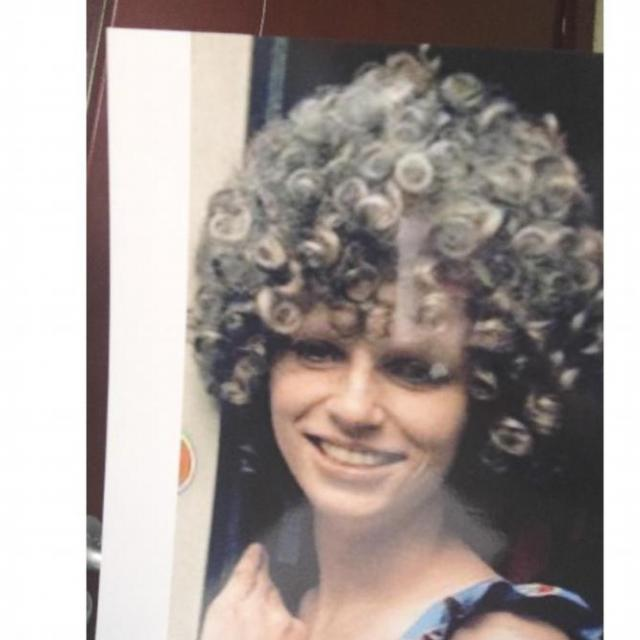photo: (96, 20, 603, 640)
